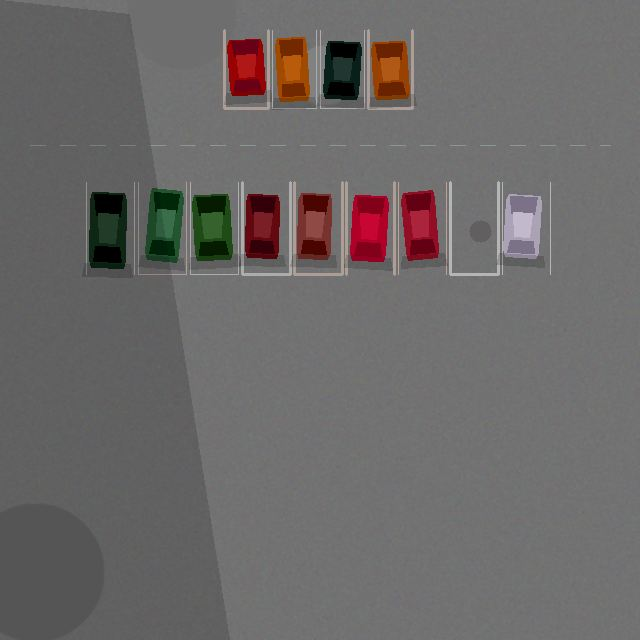space-empty: (450, 182, 498, 274)
space-occupied: (86, 182, 134, 274), (138, 182, 186, 274), (190, 182, 238, 274), (242, 182, 290, 274), (294, 182, 342, 274), (346, 182, 394, 274), (398, 182, 446, 274), (502, 182, 550, 274), (224, 30, 268, 108), (272, 30, 316, 108), (320, 30, 364, 108), (368, 30, 412, 108)
